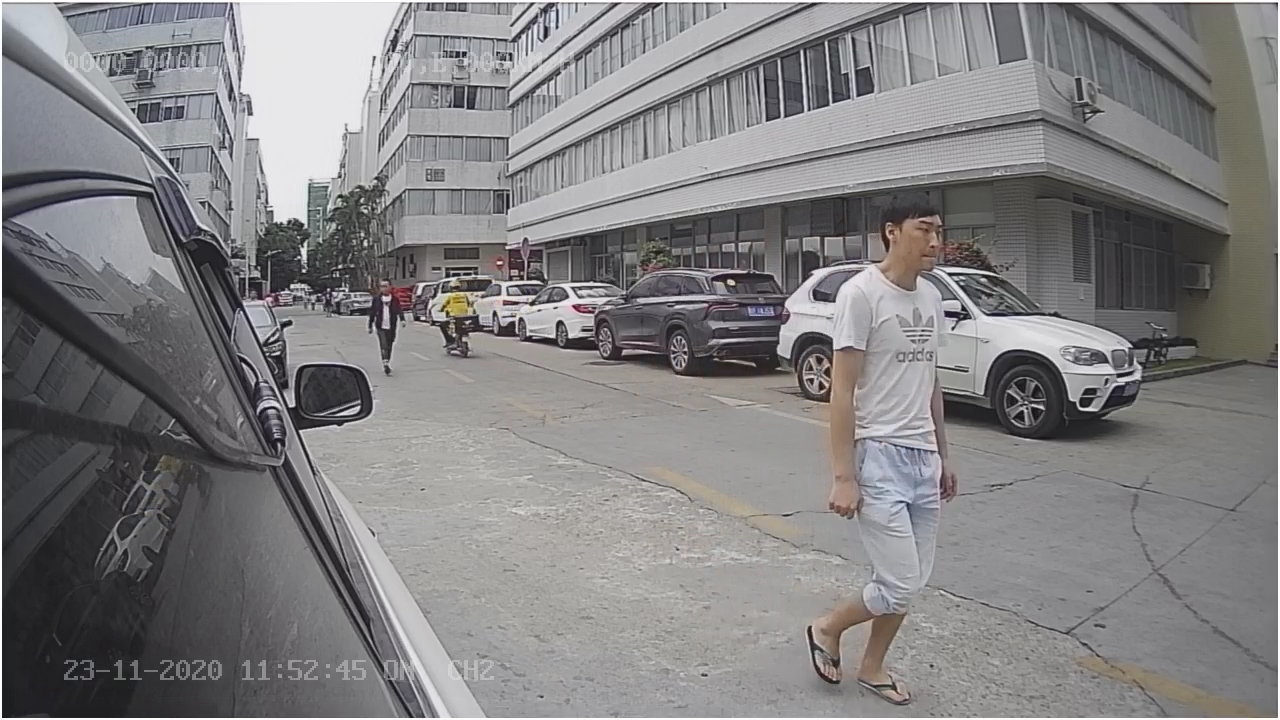person: (828, 202, 964, 659)
